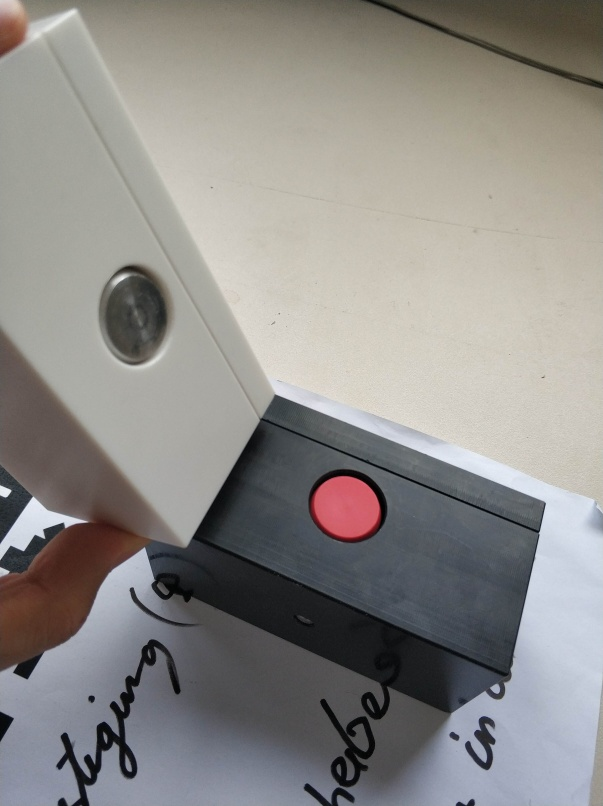black+black+red: (180, 396, 551, 716)
white+white+silver: (1, 1, 279, 557)
